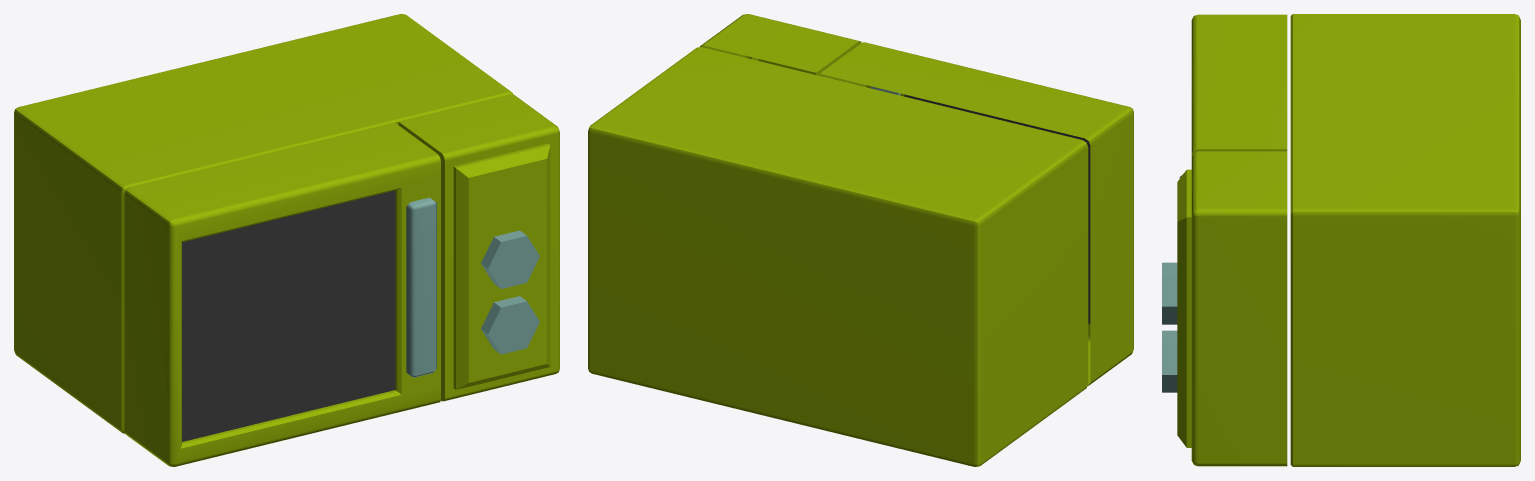
The model's file is Oven.fbx.
3 views of the same model, side by side, from view 1: azimuth 30°, elevation 25°; view 2: azimuth 150°, elevation 25°; view 3: azimuth 270°, elevation 25° (orthographic). The views are drawn at different scales.
Visible parts, largest first — view 1: Oven; view 2: Oven; view 3: Oven.
Boxes of the visible parts, x1,y1,x2,y2 form: Oven: (14, 14, 559, 466); Oven: (588, 14, 1133, 466); Oven: (1162, 14, 1520, 466).
Bounding box in the file's own units: 1.86 × 1.12 × 1.41.
